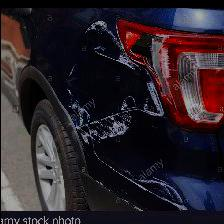tail_lamp: (66, 14, 175, 146), (126, 164, 192, 211)
